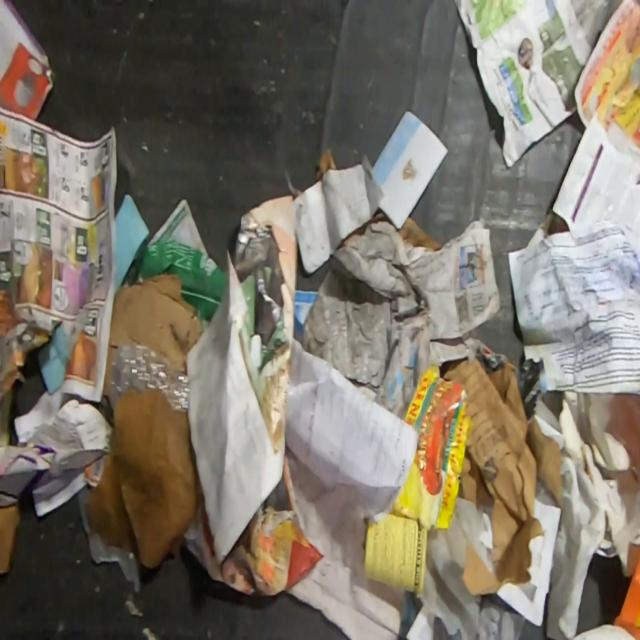cardboard: (441, 356, 562, 596), (88, 389, 198, 572), (386, 363, 472, 532), (0, 396, 112, 518), (101, 272, 202, 398), (372, 109, 450, 230), (124, 240, 228, 324), (610, 545, 640, 640), (0, 497, 22, 576), (397, 215, 442, 250), (313, 146, 337, 185), (370, 209, 388, 221)
soft_plastic: (78, 484, 142, 593), (107, 340, 192, 413)
